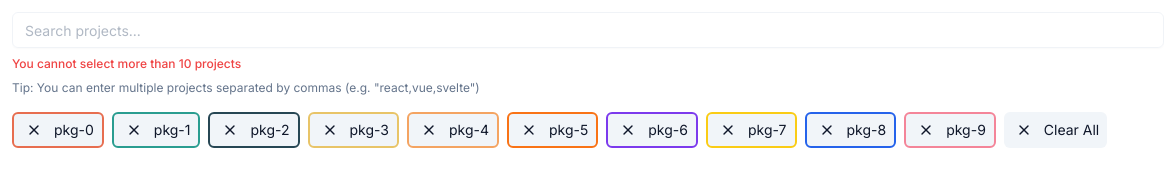
Scenario: ComboboxForm › focuses the re-enabled search after removing a tag at the limit
Expected: the dropdown is disabled, [12, 12, 1164, 48]
Step 1. Click the button named "Remove pkg-0" → (34, 130), box [22, 118, 46, 142]
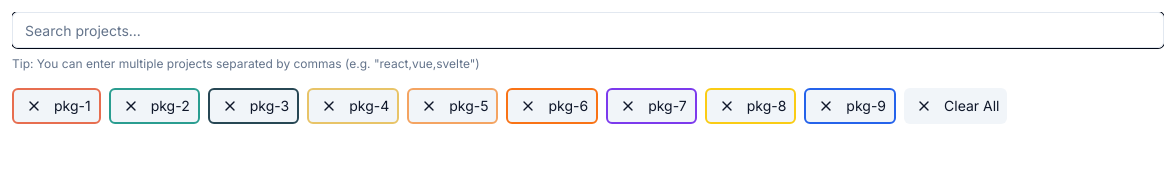
Expected: the number of list items is 9
Expected: the dropdown is enabled, [12, 12, 1164, 48]
